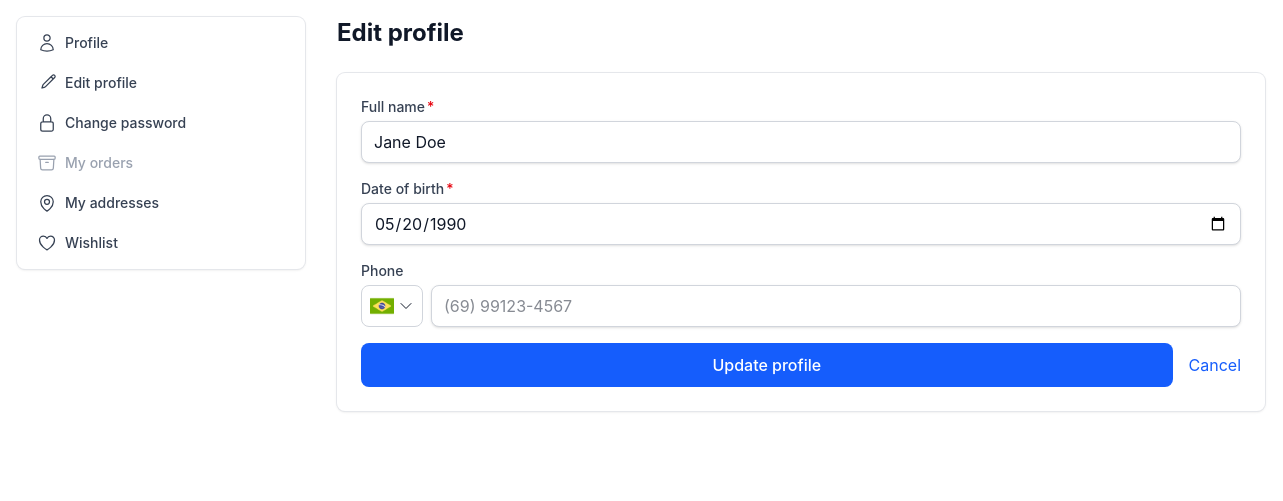
Test: ProfileEditPage › shows a form-level error through the shared alert mechanism and never a false success
Click the button "Update profile".
click(767, 365)  # box [361, 343, 1172, 387]
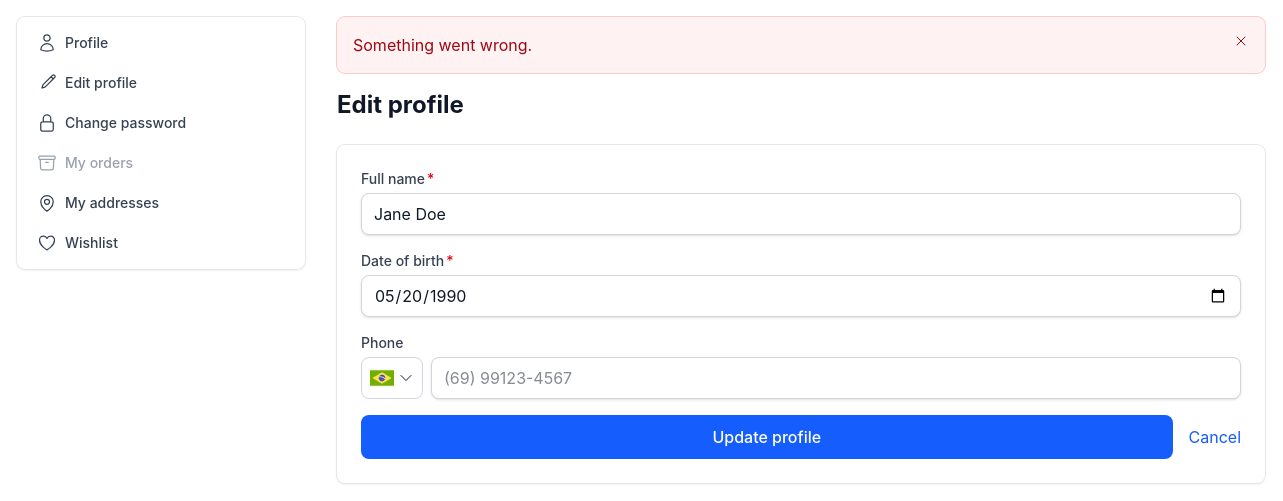
Expected: the text "Something went wrong." is shown, [353, 35, 532, 55]
